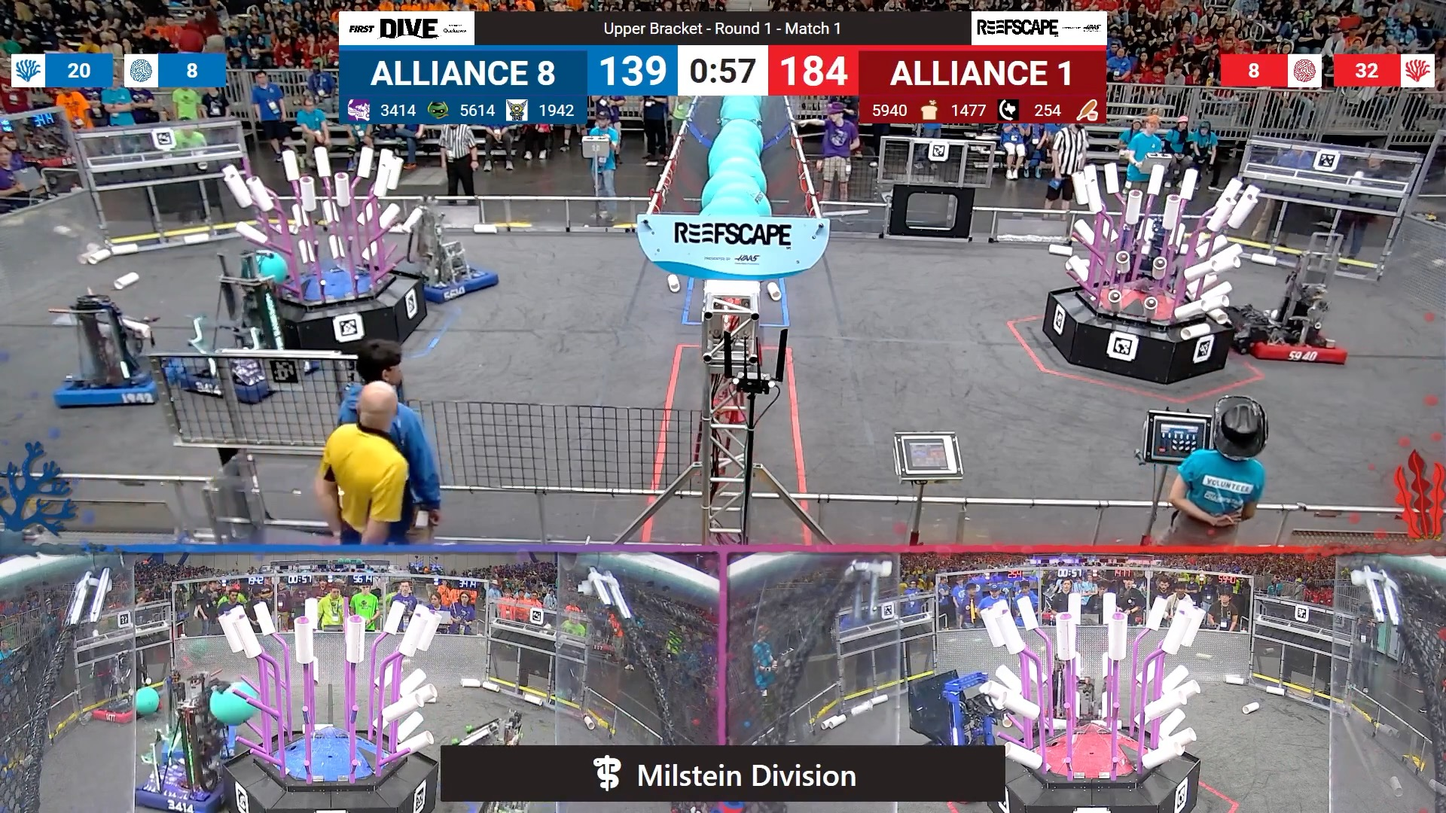bumpers: (156, 347, 305, 404), (1230, 315, 1362, 373), (48, 356, 171, 415), (125, 764, 239, 813), (391, 255, 505, 303), (83, 697, 139, 729)
